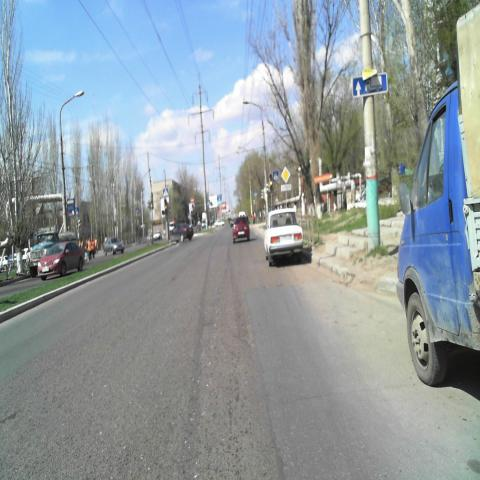2_1: (282, 166, 290, 183)
5_19_1: (272, 172, 278, 183)
6_15_1: (352, 73, 388, 95)
6_16: (280, 184, 292, 192)
